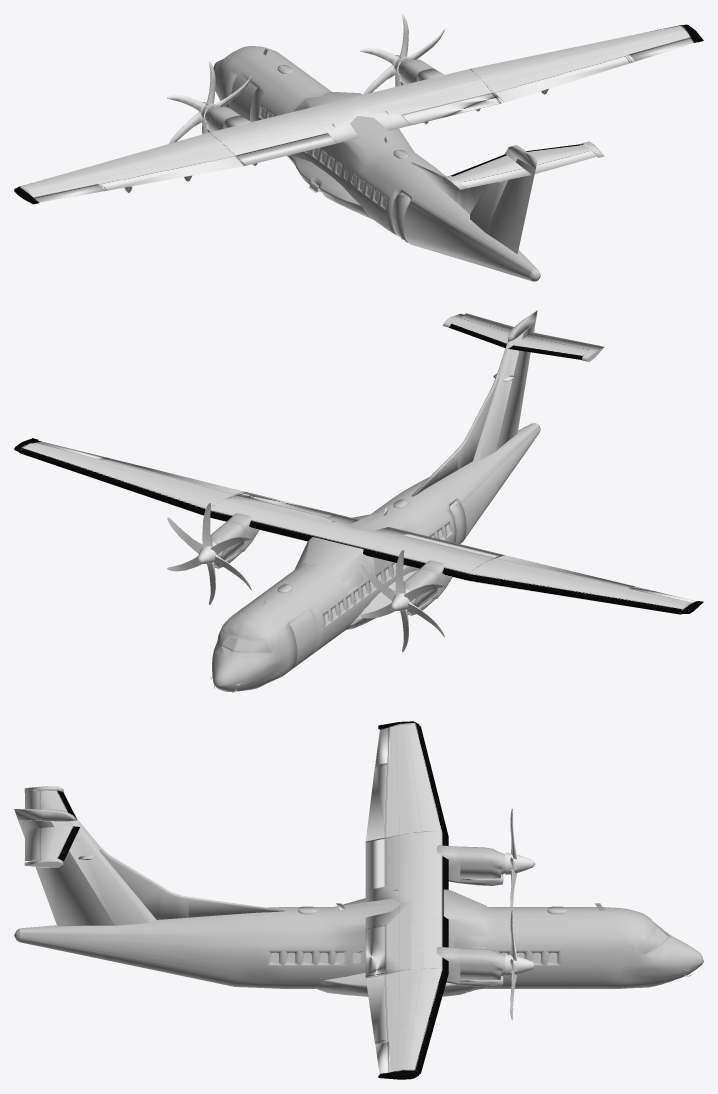
The model's file is atr.dae.
3 views of the same model, one above another, from view 1: azimuth 30°, elevation 25°; view 2: azimuth 150°, elevation 25°; view 3: azimuth 270°, elevation 25° (orthographic). The views are drawn at different scales.
Parts seen in each view (by area): view 1: fuselage_005, Wing_001, W05_207, W05_206, Rudder, Elevator, Flap4, Flap1, fuselage, Flap2, Flap3, Prop1 (+13 smaller); view 2: fuselage_005, Wing_001, W05_206, W05_207, wavefront, VStab, Prop2, Prop1, Rudder, Elevator, Misc_028, CargoDr (+9 smaller); view 3: fuselage_005, Wing_001, W05_206, W05_207, Rudder, VStab, Misc_028, wavefront, Misc_023, Misc_027, Flap1, Elevator (+9 smaller).
Part boxes in pixels (x1,y1,x2,y2): fuselage_005: (213, 46, 540, 281); Wing_001: (211, 68, 503, 165); W05_207: (471, 25, 697, 102); W05_206: (22, 132, 243, 197); Rudder: (485, 158, 535, 254); Elevator: (458, 148, 598, 188); Flap4: (496, 55, 633, 102); Flap1: (99, 156, 242, 190); fuselage: (288, 156, 373, 219); Flap2: (236, 133, 336, 165); Flap3: (403, 92, 503, 124); Prop1: (167, 61, 251, 143); fuselage_005: (212, 423, 540, 691); Wing_001: (210, 492, 503, 581); W05_206: (466, 555, 691, 614); W05_207: (19, 440, 243, 515); wavefront: (294, 537, 375, 593); VStab: (473, 324, 532, 460); Prop2: (167, 503, 252, 604); Prop1: (360, 550, 445, 651); Rudder: (496, 322, 535, 450); Elevator: (457, 313, 598, 351); Misc_028: (455, 375, 499, 469); CargoDr: (289, 610, 316, 668); fuselage_005: (14, 889, 703, 988); Wing_001: (365, 831, 448, 978); W05_206: (366, 724, 448, 841); W05_207: (366, 968, 448, 1073); Rudder: (18, 820, 114, 926); VStab: (21, 820, 156, 925); Misc_028: (99, 847, 188, 919); wavefront: (443, 889, 486, 949); Misc_023: (460, 948, 505, 980); Misc_027: (460, 846, 505, 878); Flap1: (366, 763, 388, 840); Elevator: (24, 790, 54, 861).
Bounding box in the file's own units: 27.69 × 22.77 × 6.59.
